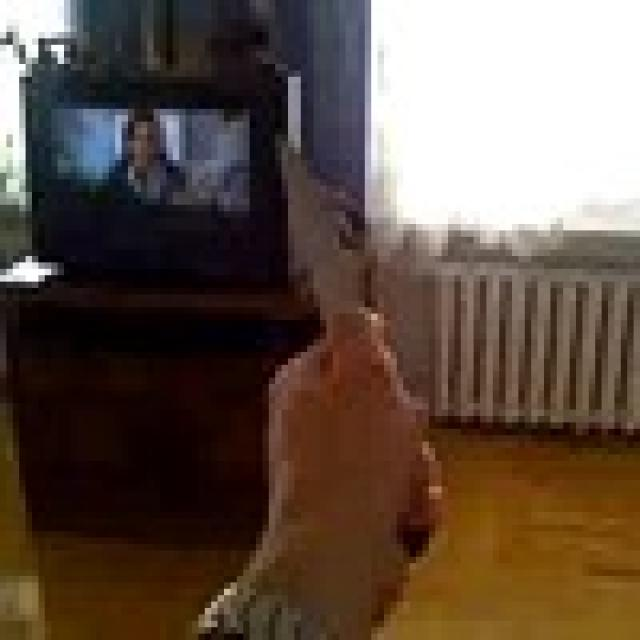Knife_Handle: (269, 141, 448, 582)
